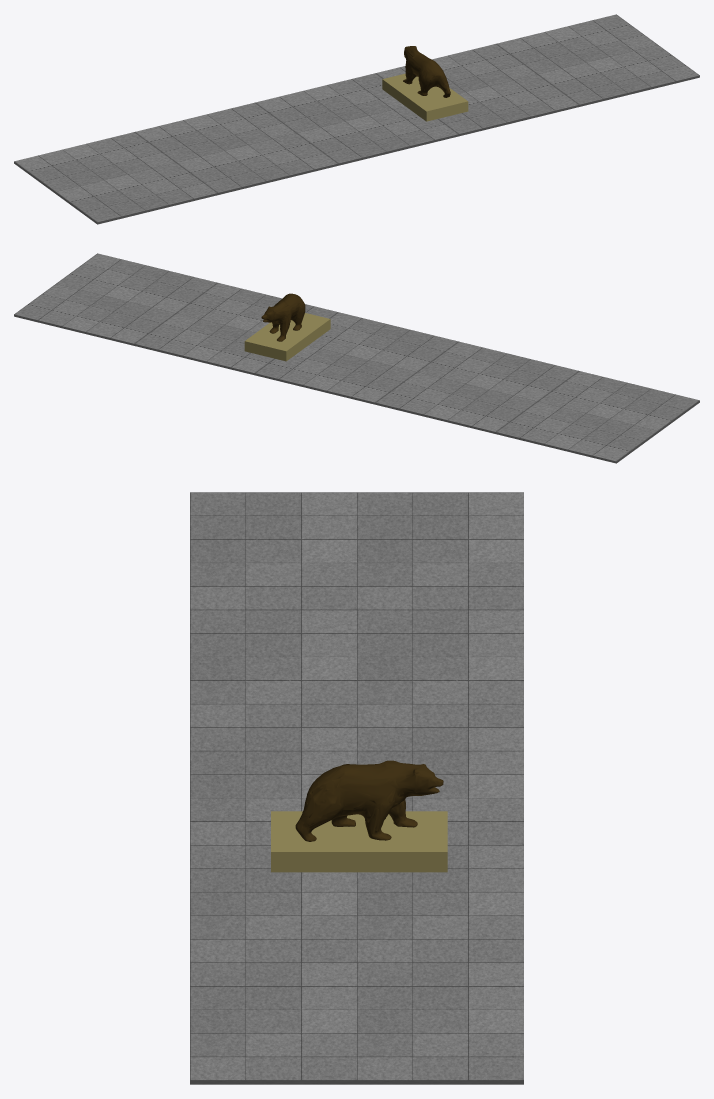
File: Section7.glb
The picture shows the model from 3 angles, top to bottom: view 1: azimuth 30°, elevation 25°; view 2: azimuth 150°, elevation 25°; view 3: azimuth 270°, elevation 25°; orthographic projection. The views are drawn at different scales.
Parts seen in each view (by area): view 1: Concrete.073, Concrete.077, Concrete.057, Concrete.074, Concrete.058, Concrete.078, Concrete.052, Concrete.055, Concrete.056, Concrete.049, BearPlatform, bear; view 2: Concrete.074, Concrete.078, Concrete.052, Concrete.073, Concrete.055, Concrete.077, Concrete.057, Concrete.058, Concrete.049, Concrete.056, BearPlatform, bear; view 3: Concrete.077, Concrete.078, Concrete.057, Concrete.052, Concrete.073, Concrete.074, Concrete.056, Concrete.049, Concrete.058, Concrete.055, BearPlatform, bear.
Boxes of the visible parts, x1,y1,x2,y2 form: Concrete.073: (55,162,217,224); Concrete.077: (538,45,699,106); Concrete.057: (176,133,338,194); Concrete.074: (14,132,175,193); Concrete.058: (297,106,458,165); Concrete.078: (496,14,657,73); Concrete.052: (135,102,296,162); Concrete.055: (255,73,405,132); Concrete.056: (438,74,579,136); Concrete.049: (376,44,537,93); BearPlatform: (382,73,468,121); bear: (403,46,450,97); Concrete.074: (496,401,658,463); Concrete.078: (14,284,175,345); Concrete.052: (375,372,537,433); Concrete.073: (538,371,699,432); Concrete.055: (255,345,416,404); Concrete.077: (56,253,217,312); Concrete.057: (417,341,578,401); Concrete.058: (308,312,458,371); Concrete.049: (134,313,274,375); Concrete.056: (176,283,337,332); BearPlatform: (244,313,330,361); bear: (261,293,305,341); Concrete.077: (190,962,356,1084); Concrete.078: (357,962,523,1084); Concrete.057: (190,610,356,727); Concrete.052: (357,610,523,727); Concrete.073: (190,492,356,609); Concrete.074: (357,492,523,609); Concrete.056: (190,845,356,962); Concrete.049: (357,845,523,962); Concrete.058: (190,727,356,845); Concrete.055: (357,727,523,845); BearPlatform: (271,811,447,872); bear: (295,760,443,841).
Bounding box in the file's own units: 100 × 7.44 × 24.
Materials: 4 (2 with a texture image).
